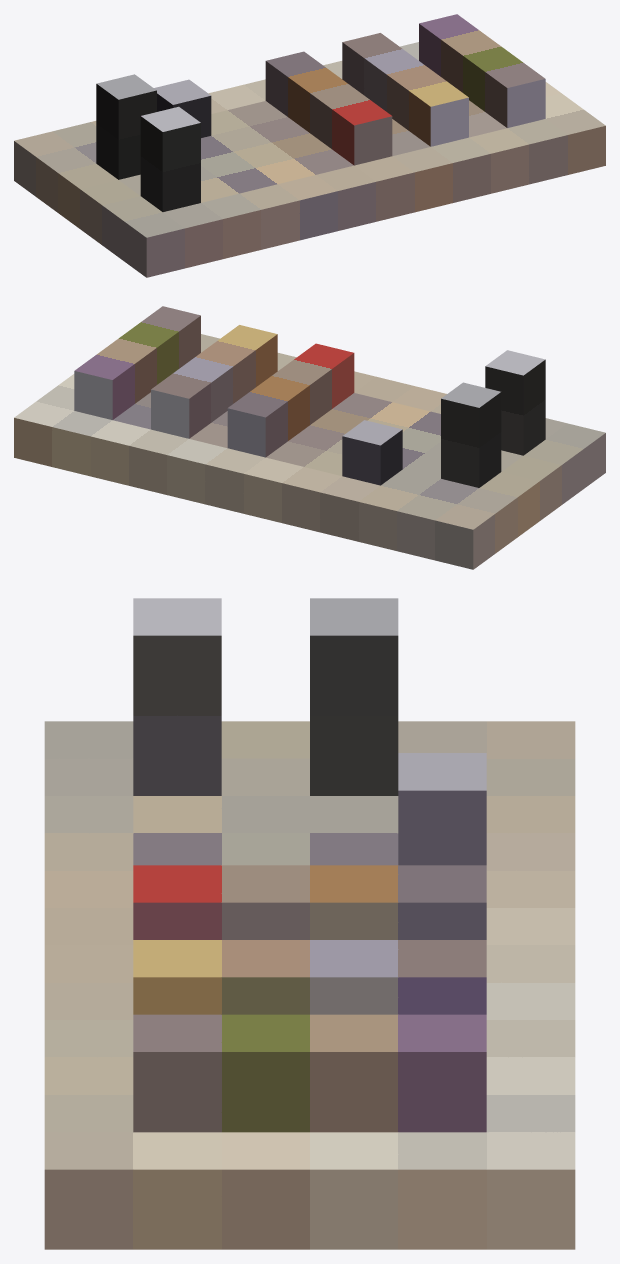
Rendered from breadboard.fbx.
3 renders of one model, top to bottom at view 1: azimuth 30°, elevation 25°; view 2: azimuth 150°, elevation 25°; view 3: azimuth 270°, elevation 25°, orthographic. The views are drawn at different scales.
Parts seen in each view (by area): view 1: breadboard; view 2: breadboard; view 3: breadboard.
Part boxes in pixels (<box>): breadboard: <box>14,14,605,277</box>; breadboard: <box>14,306,605,569</box>; breadboard: <box>44,598,575,1249</box>.
Bounding box in the file's own units: 60 × 15 × 30.
